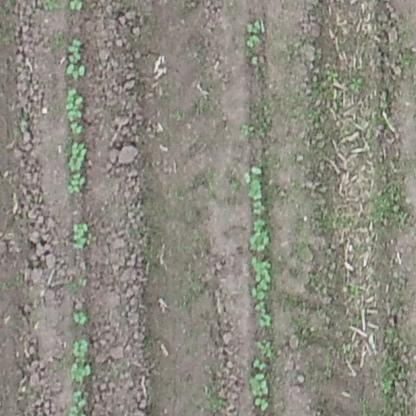vc: (65, 36, 87, 80), (66, 87, 85, 132), (69, 221, 94, 252), (248, 218, 271, 251), (65, 141, 89, 172), (250, 254, 275, 281), (254, 301, 273, 329), (66, 391, 88, 415), (70, 360, 92, 383), (248, 374, 271, 396), (67, 173, 89, 195), (70, 337, 91, 357), (244, 178, 262, 199), (245, 16, 263, 34), (242, 35, 262, 49), (71, 310, 89, 325), (249, 285, 266, 300), (253, 357, 268, 371), (249, 164, 266, 176), (254, 399, 272, 410), (252, 200, 266, 214), (69, 1, 83, 12), (77, 277, 89, 288)
